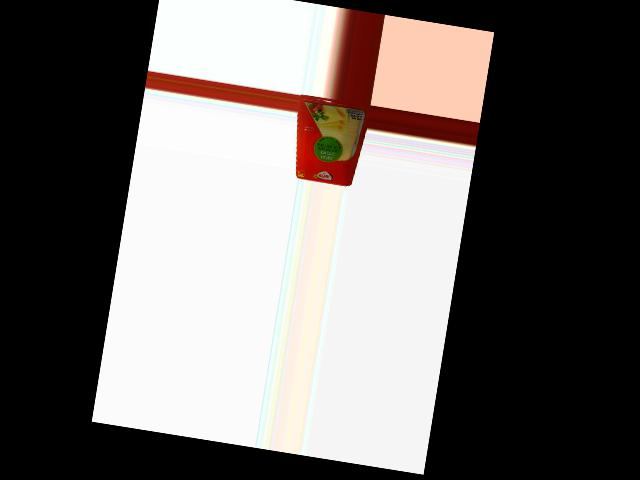cheese: (286, 93, 369, 187)
